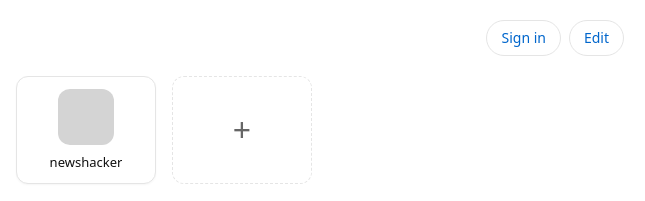
Test case: Home › always shows the Add tile and exposes delete buttons in edit mode
Later steps or results of the test are not shown.
Expected: the button named "Add link" is shown, [172,76,312,184]
Click the button "Edit" at (596, 38), box [569,20,624,56]
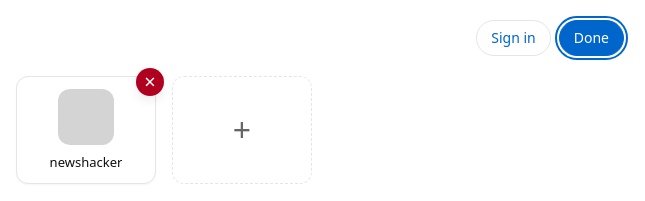
Expected: the button named "Add link" is shown, [172,76,312,184]
Expected: the button named "Delete newshacker" is shown, [136,68,164,96]
